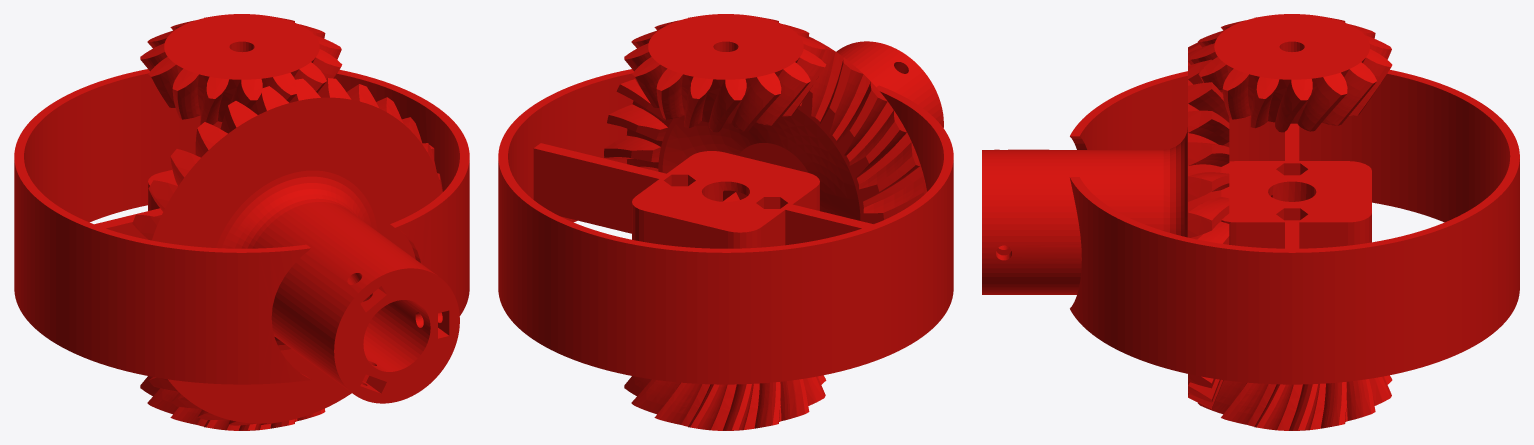
Rendered from Thor5.obj.
The picture shows the model from 3 angles, left to right: view 1: azimuth 30°, elevation 25°; view 2: azimuth 150°, elevation 25°; view 3: azimuth 270°, elevation 25°; orthographic projection.
Size of the model in its own units: 9.4 by 8 by 11.1.
Materials: 1 (1 with a texture image).
